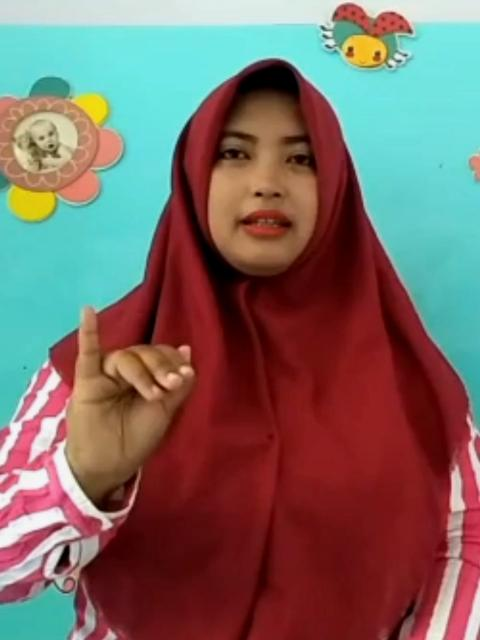I: (56, 303, 194, 485)
